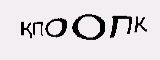К: (132, 16, 149, 33)
О: (71, 13, 106, 40), (44, 17, 67, 38)
П: (109, 15, 132, 40), (31, 20, 44, 38)
Қ: (18, 21, 32, 40)
